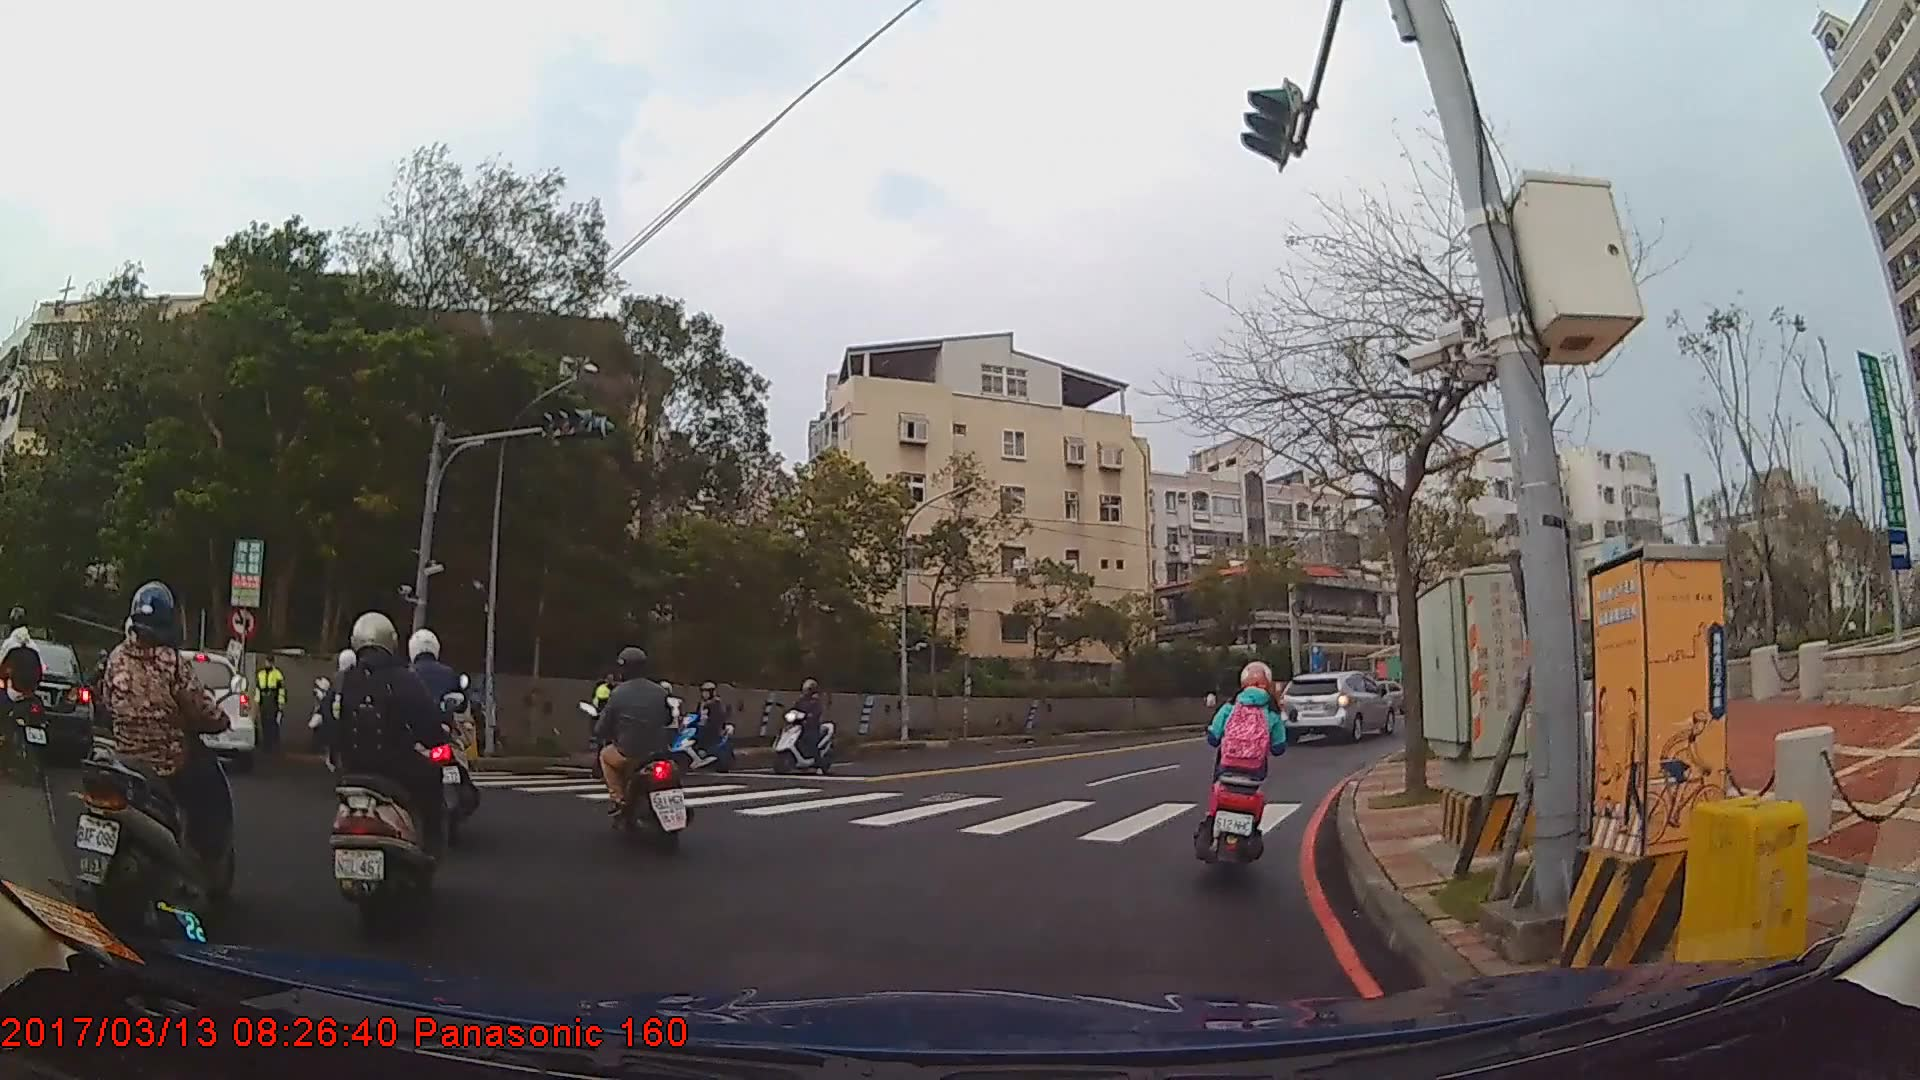pedestrian: (582, 669, 623, 781), (253, 652, 290, 759)
rider: (91, 581, 242, 940), (322, 607, 450, 916), (590, 644, 691, 854), (394, 627, 482, 844), (1204, 657, 1296, 864), (6, 608, 49, 775), (772, 677, 836, 773), (670, 679, 736, 773), (632, 676, 689, 764)
vehicle: (122, 648, 256, 769), (0, 639, 94, 763), (1274, 667, 1397, 745)
